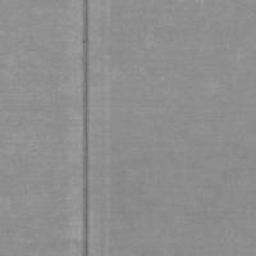Welding line: (82, 0, 91, 256)
